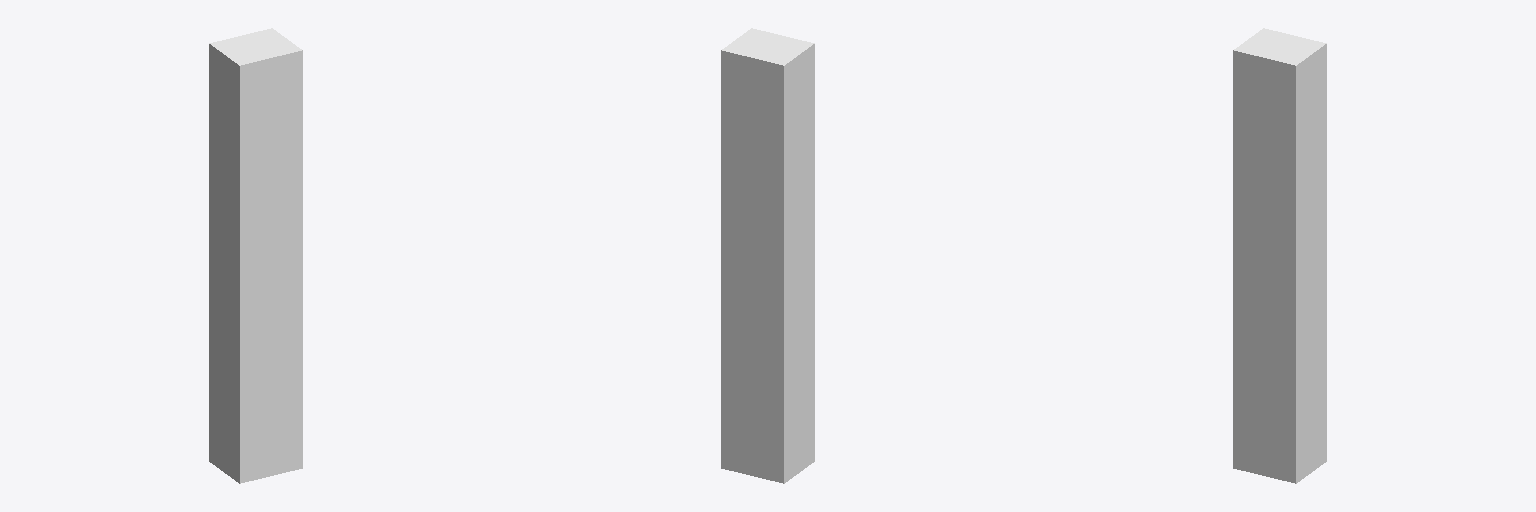
File: modern:wall-joint-center.obj
3 views of the same model, side by side, from view 1: azimuth 30°, elevation 25°; view 2: azimuth 150°, elevation 25°; view 3: azimuth 330°, elevation 25° (orthographic).
Visible parts, largest first — view 1: modern:wall-joint-center; view 2: modern:wall-joint-center; view 3: modern:wall-joint-center.
Boxes of the visible parts, <box> form: modern:wall-joint-center: <box>209,28,302,483</box>; modern:wall-joint-center: <box>721,28,814,483</box>; modern:wall-joint-center: <box>1233,28,1326,483</box>.
Bounding box in the file's own units: 6 × 38 × 5.